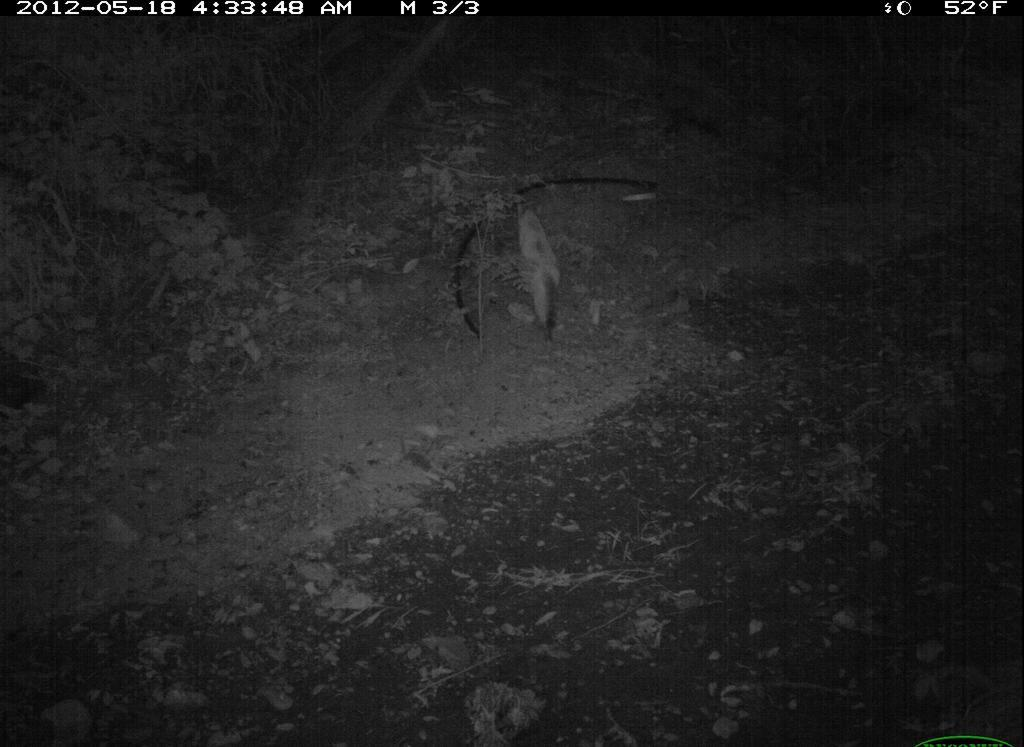cat: (502, 200, 583, 354)
